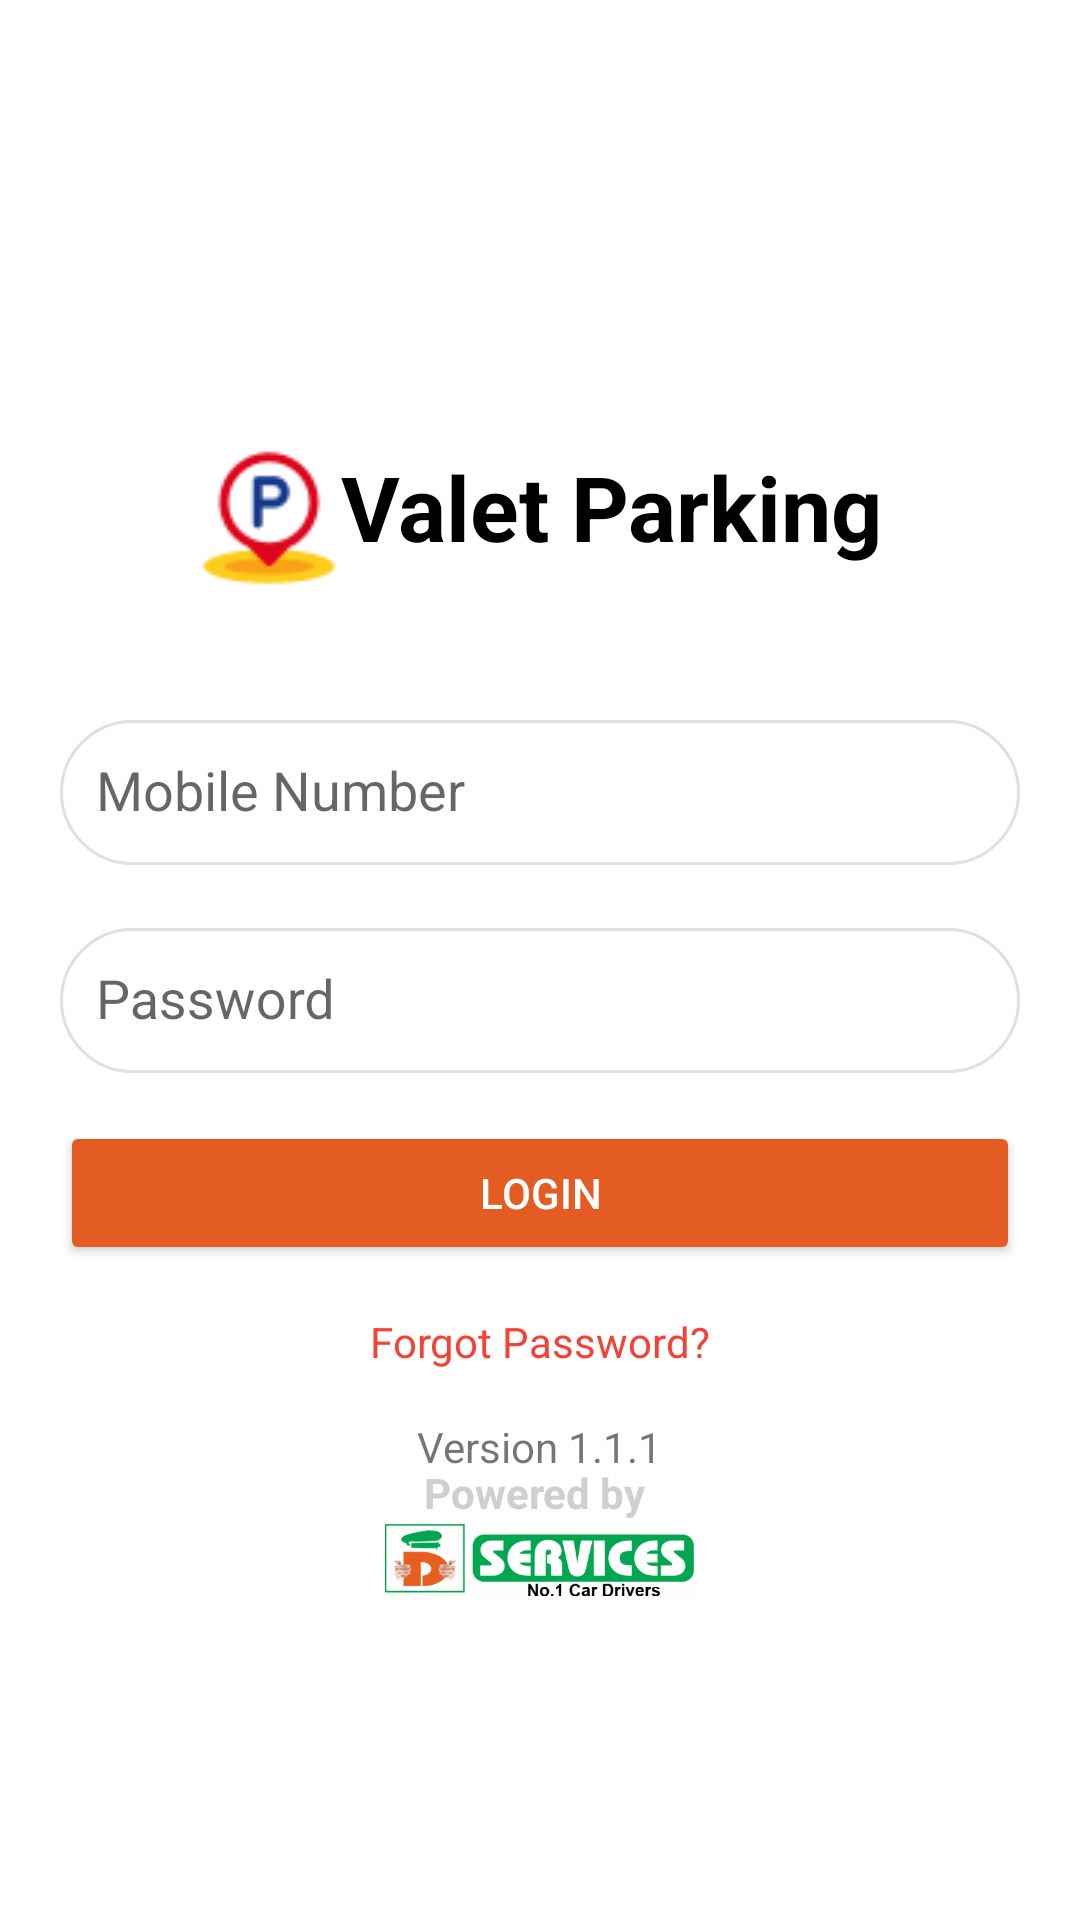

Locate icon controls on the screen. Image size 1080*1920, boxes as (x1, y1, x2, y2).
parkingcar: (202, 451, 336, 585)
